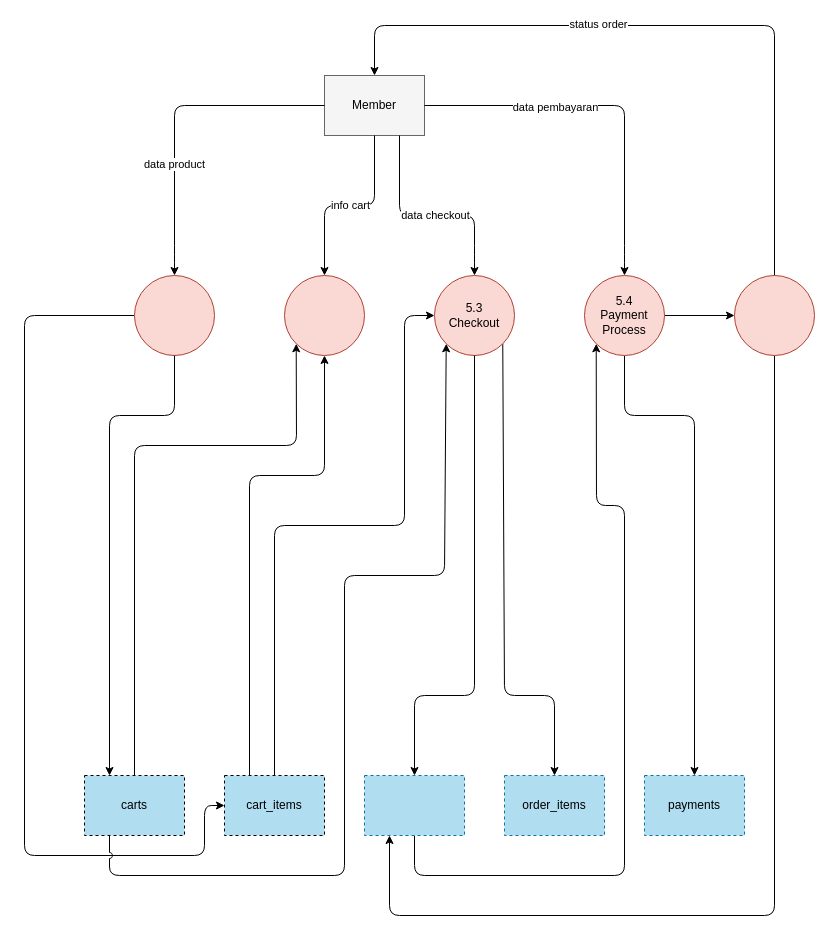
This 832x941 diagram has some shape labels left out. Here are the shapes that lost their labels. From the top down, the centre of each, then its label:
At point (174, 315): "5.1 Add to Cart".
At point (324, 315): "5.2 View Cart".
At point (774, 315): "5.5 Update Order Status".
At point (414, 805): "orders".
